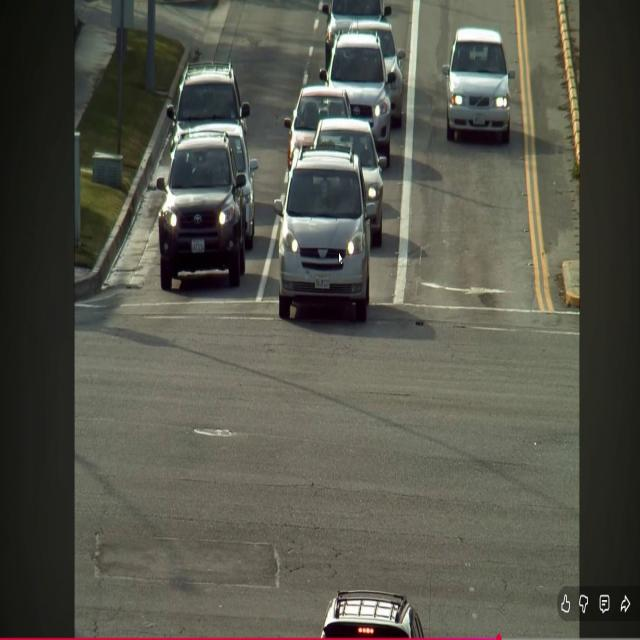car: (274, 149, 375, 321), (156, 130, 246, 290), (319, 32, 395, 165), (312, 119, 386, 247), (191, 123, 258, 249), (442, 28, 515, 143), (166, 62, 250, 149), (350, 20, 405, 127), (284, 85, 350, 169), (321, 591, 423, 638), (322, 0, 391, 68)
